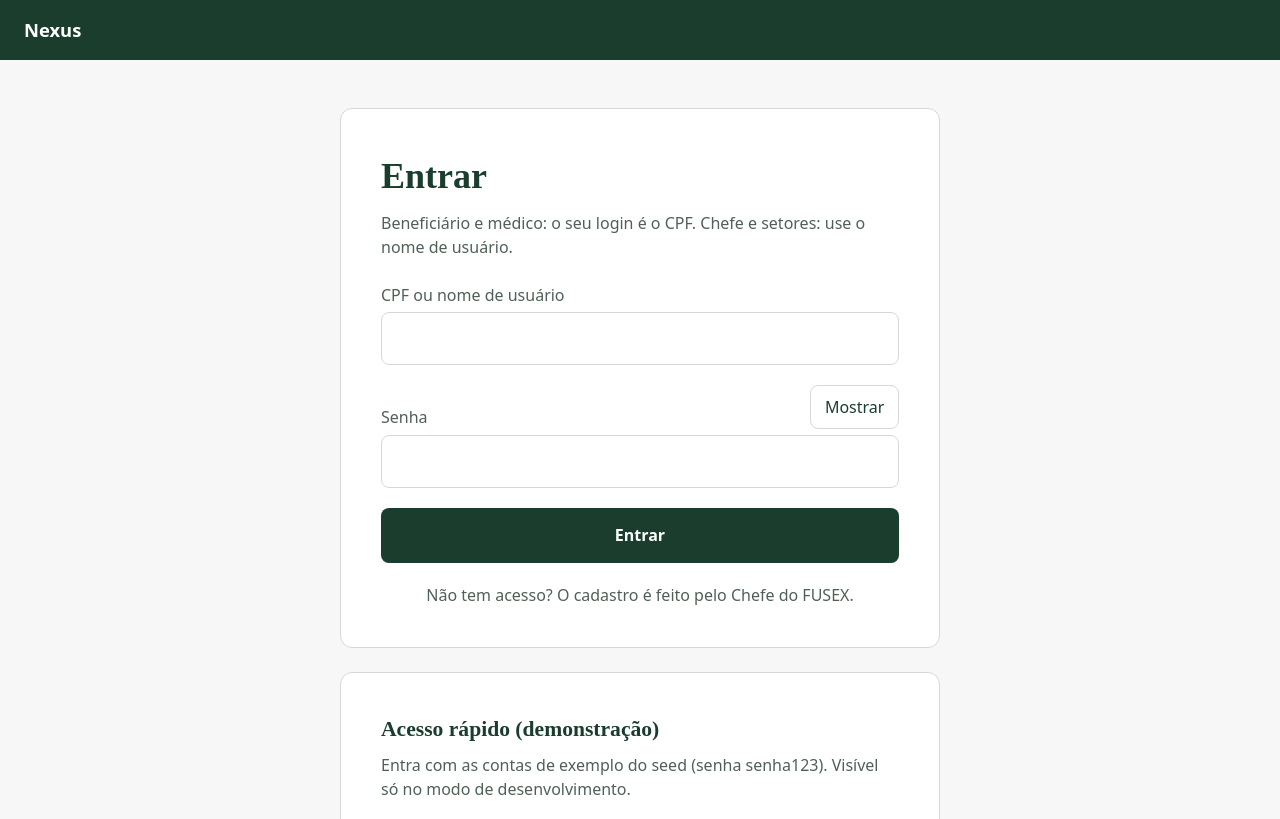
it: LoginPage › login ou senha errados mostram a mensagem genérica do protótipo
Type "12345678900" into the field labelled "CPF ou nome de usuário" at (640, 339), box [381,312,899,365]
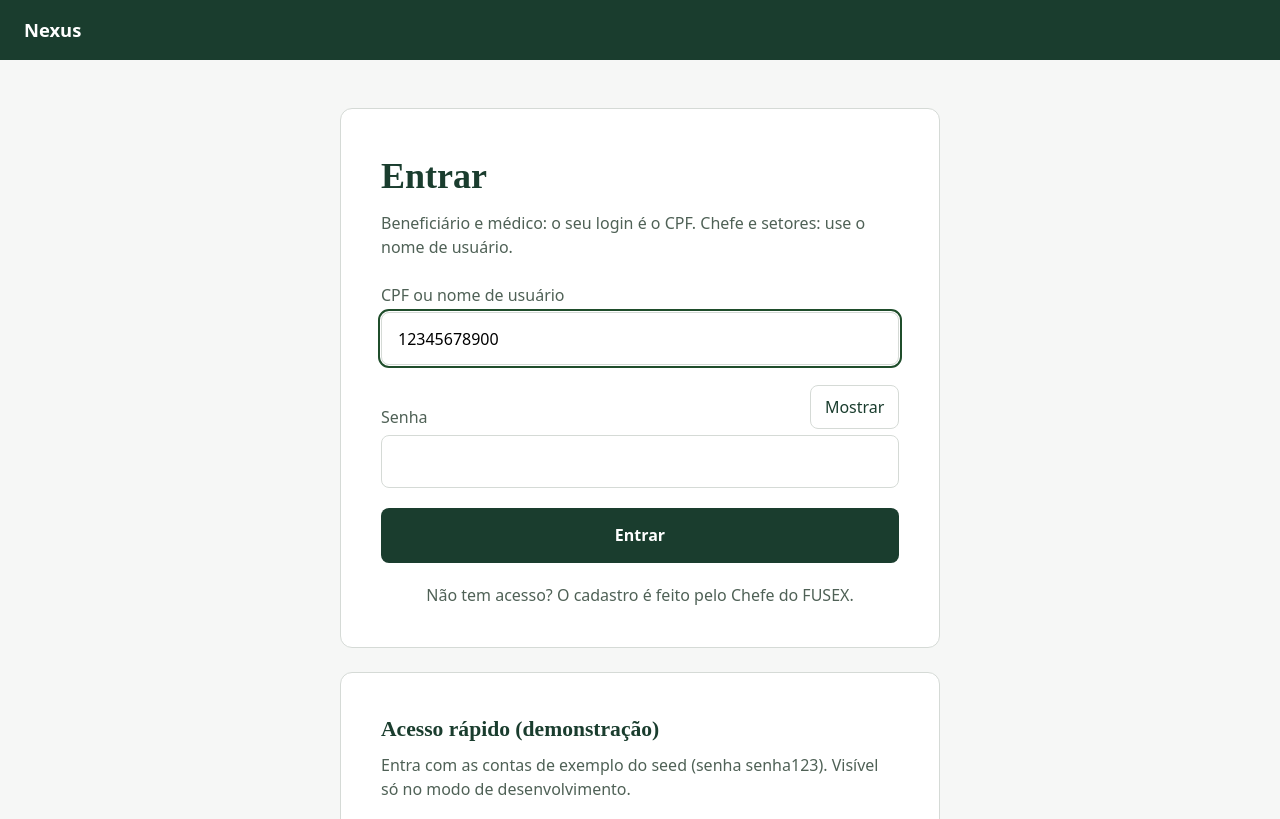
Type "errada12" into the password field labelled "Senha" at (640, 462), box [381,435,899,488]
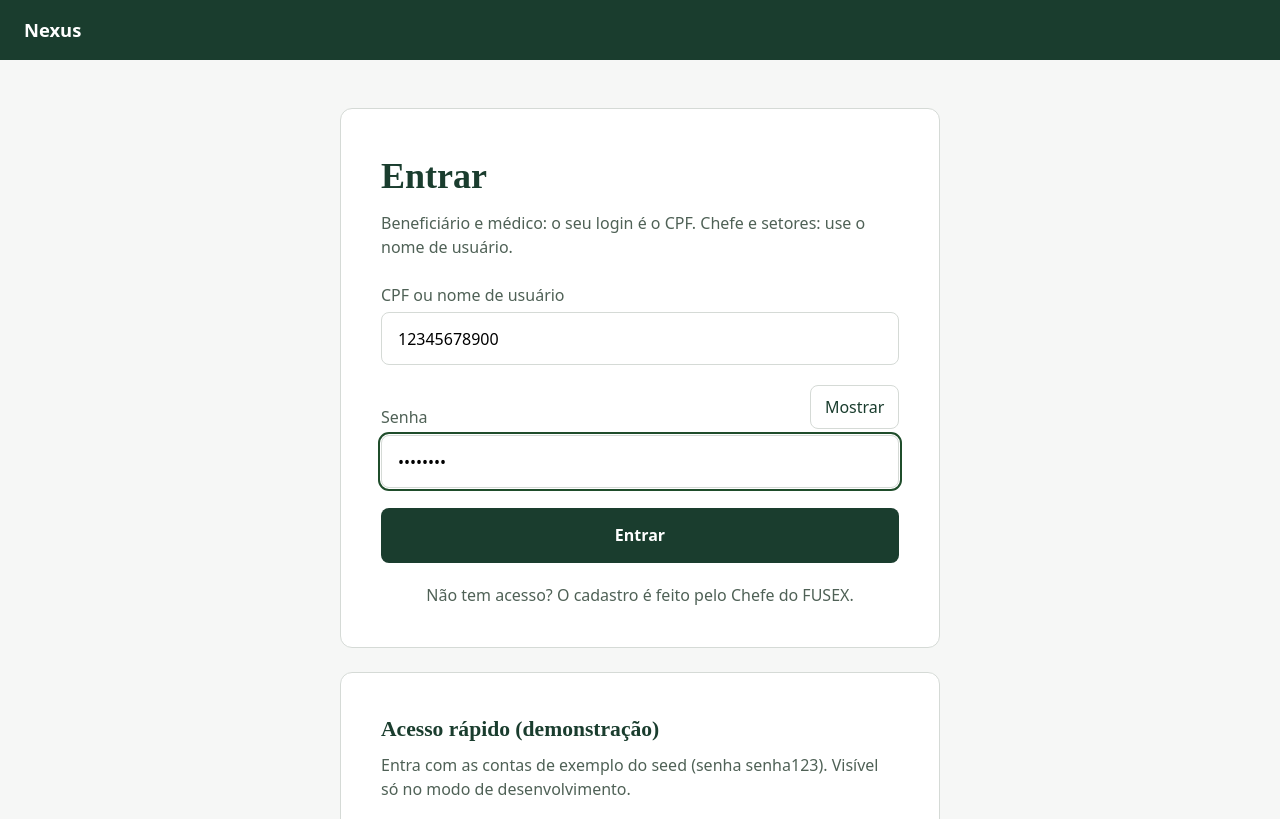
Click the button "Entrar" at (640, 535), box [381,508,899,563]
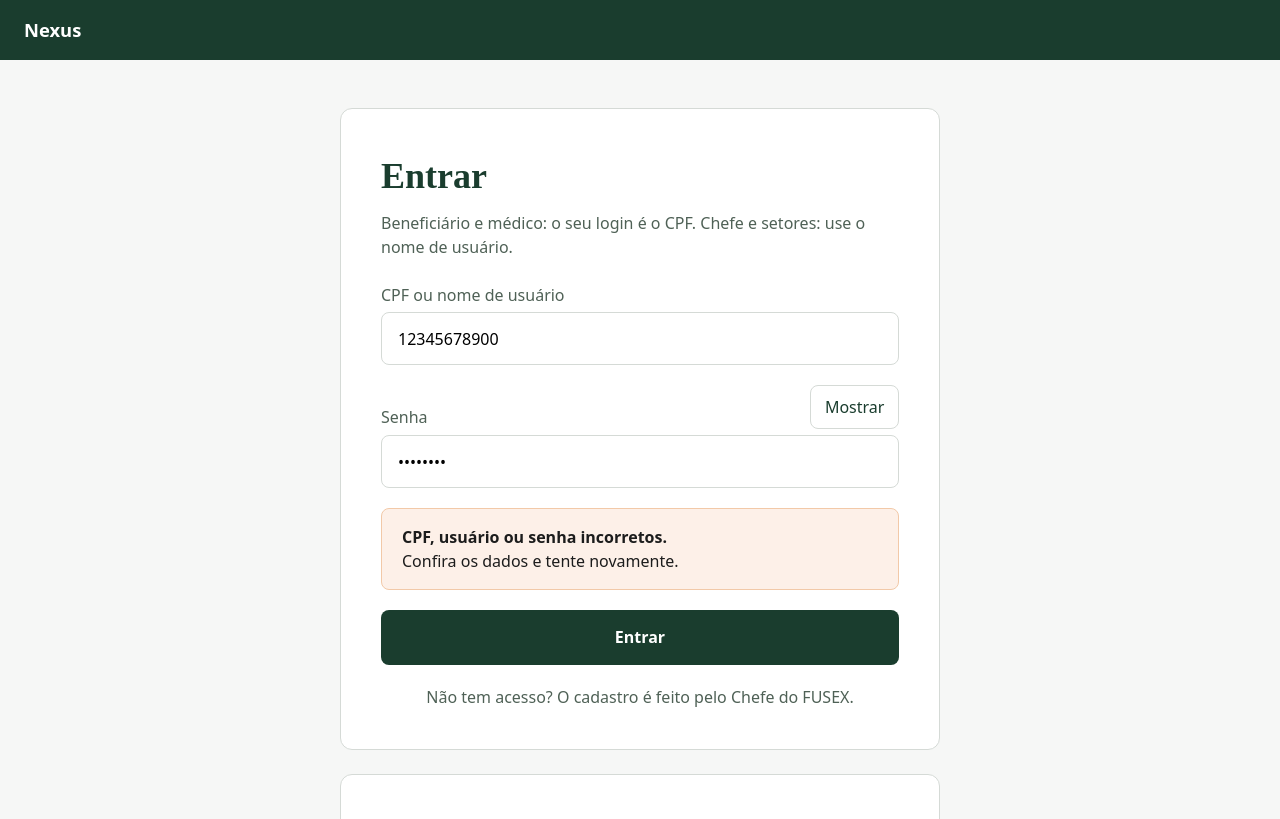
Expected: the message shows "CPF, usuário ou senha incorretos.", [402,526,667,548]
Expected: the message shows "Confira os dados e tente novamente.", [402,550,678,572]
